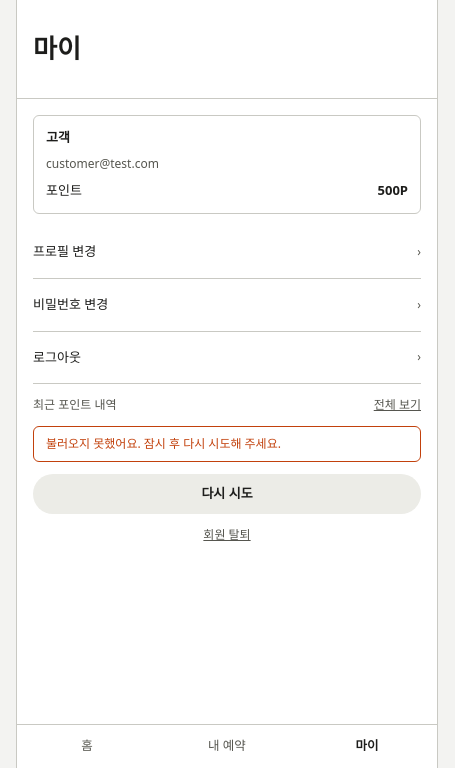
it: MyPage (C6·C10) › 포인트 불러오기 실패: 상자는 사용자 point, 내역 자리에 임시 문구와 「다시 시도」
The width and height of the screenshot is (455, 768).
Expected: the text "불러오지 못했어요. 잠시 후 다시 시도해 주세요." is shown, left=33, top=426, right=421, bottom=462
Expected: the text "500P" is shown, left=378, top=181, right=408, bottom=201
Step 1. Click the button "다시 시도" → point(227, 494), box left=33, top=474, right=421, bottom=514
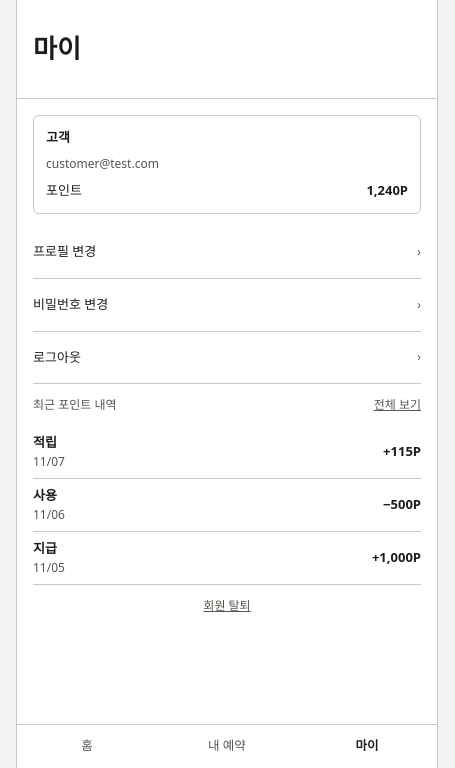
Now the text "+115P" is shown, box left=383, top=442, right=421, bottom=462
